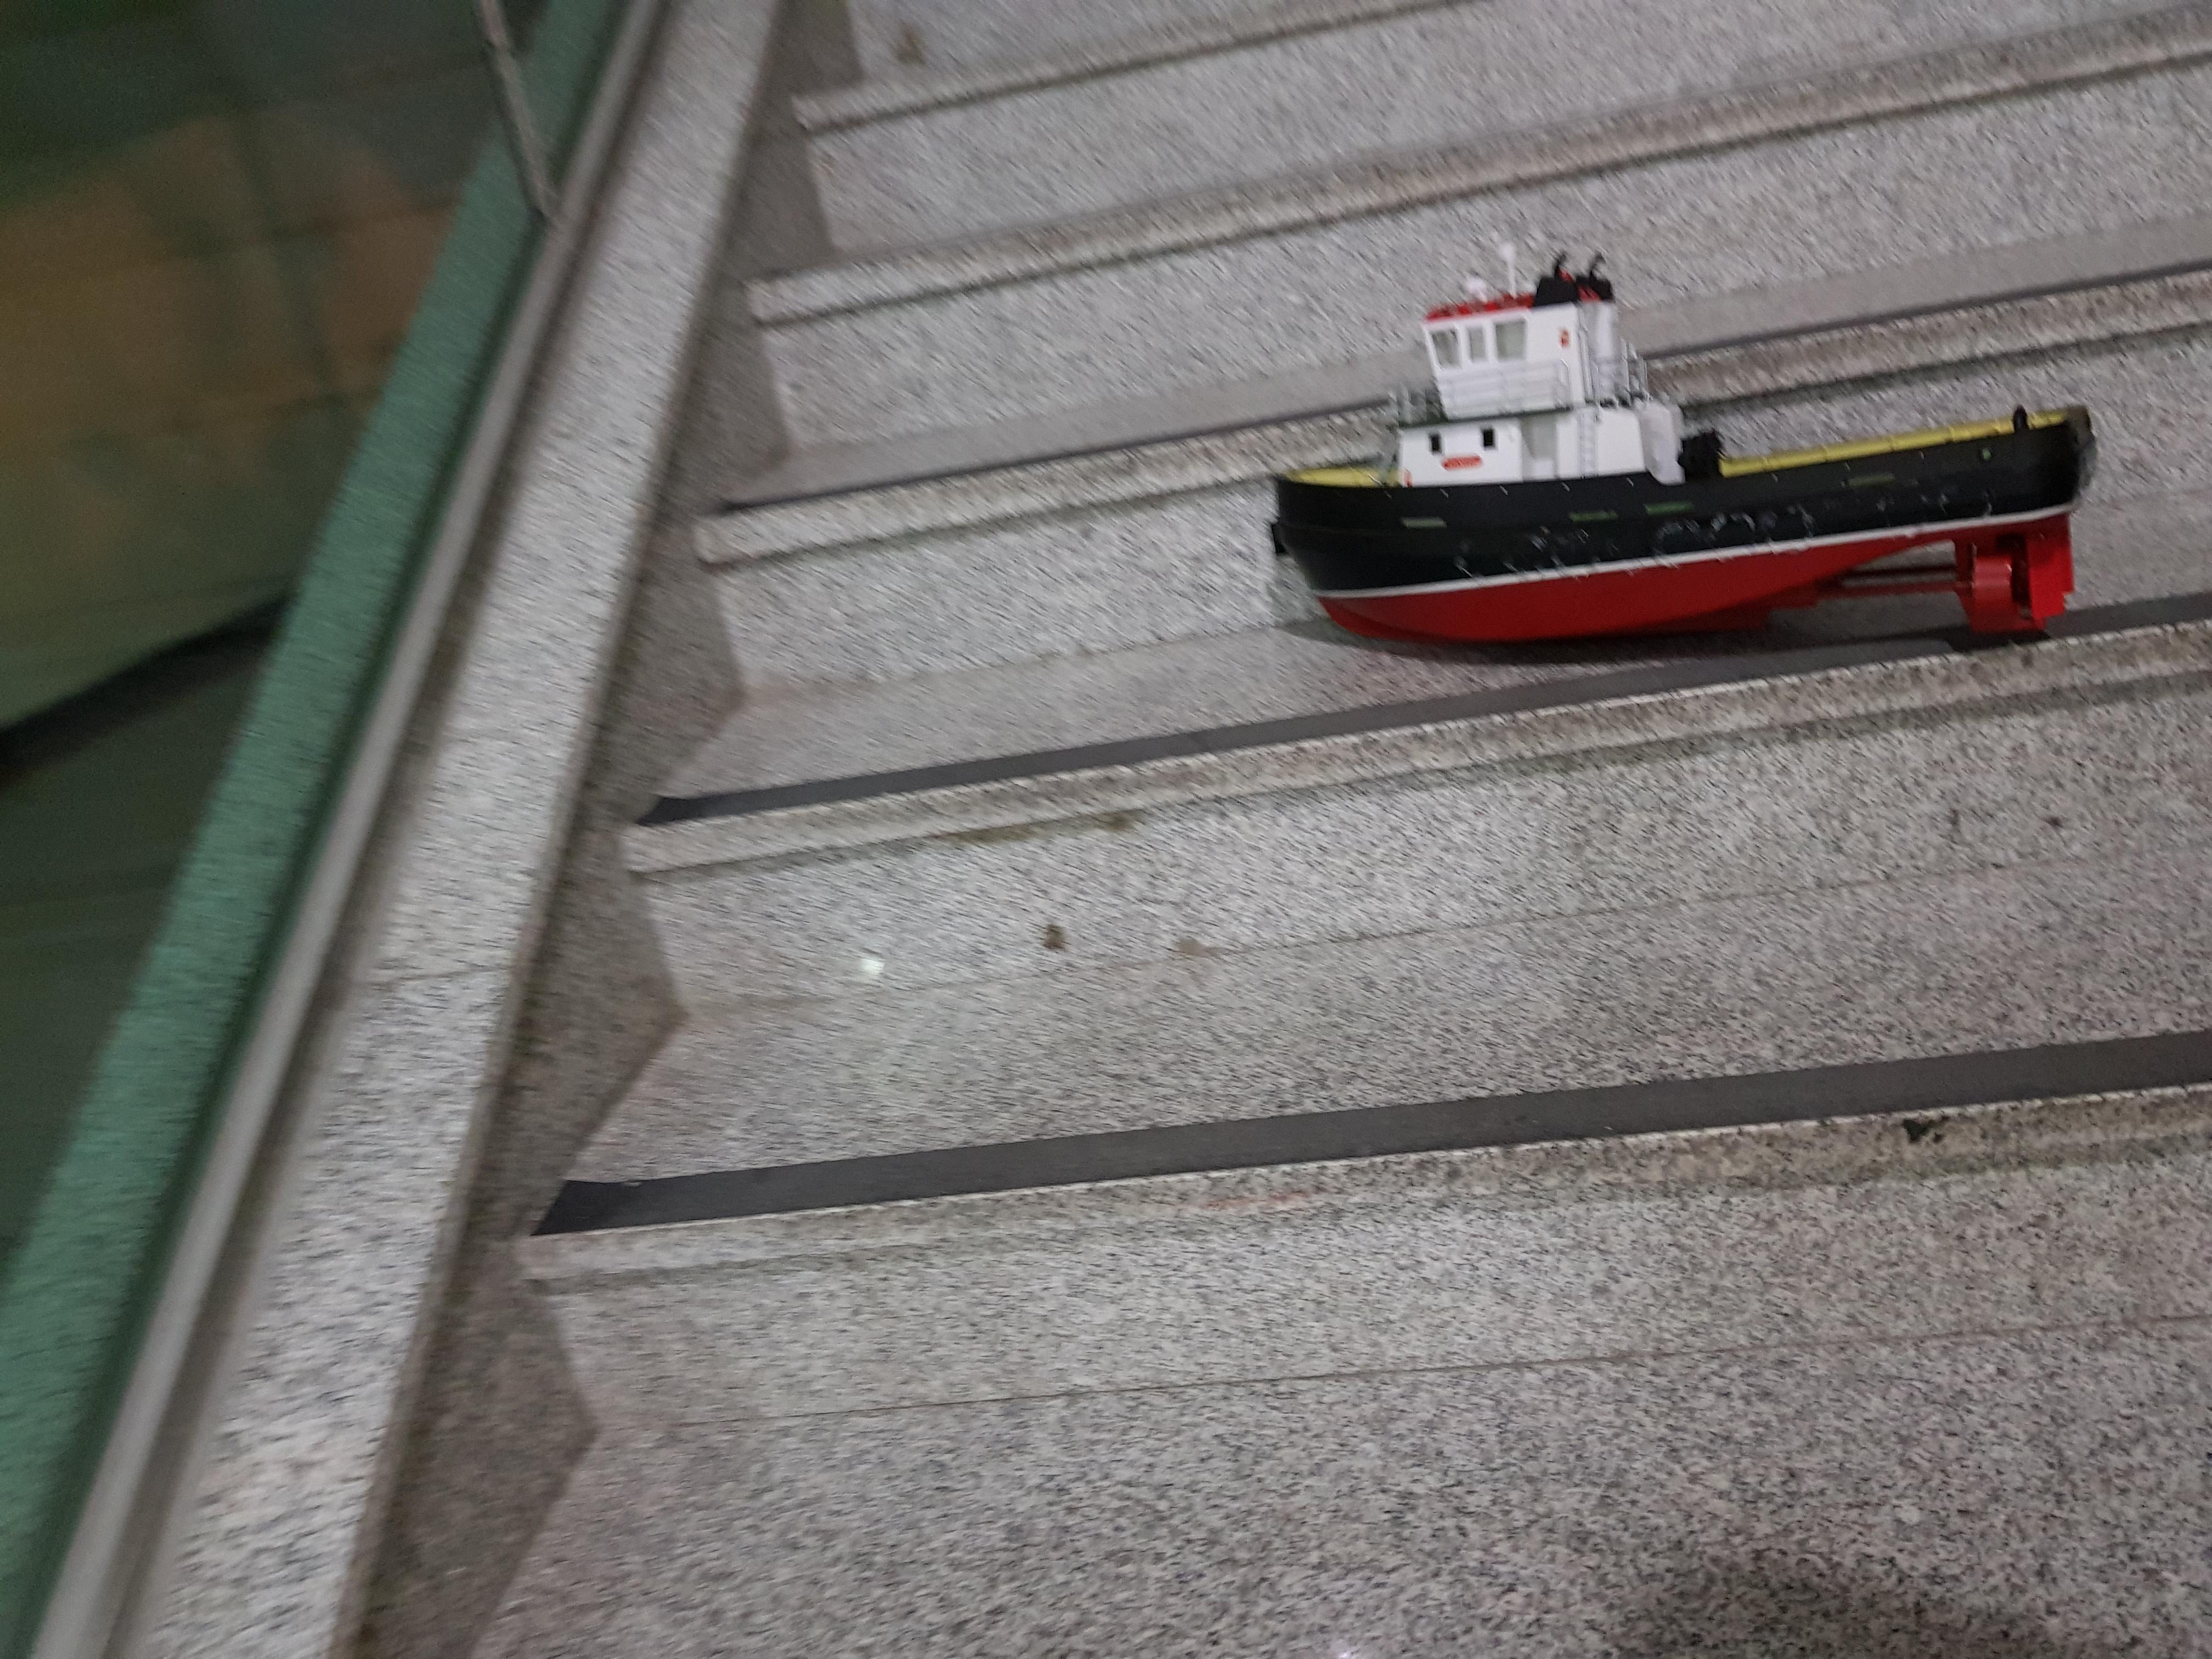Boat: (1270, 237, 2095, 641)
